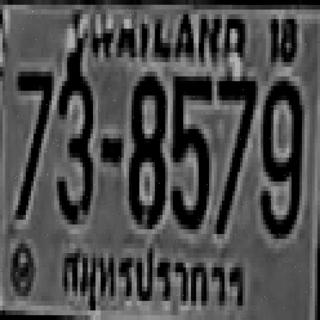N03: (56, 67, 92, 220)
N05: (170, 72, 209, 225)
N07: (214, 74, 255, 232), (16, 67, 52, 215)
N08: (126, 74, 162, 222)
N09: (258, 76, 299, 234)
P57: (57, 237, 250, 318)
